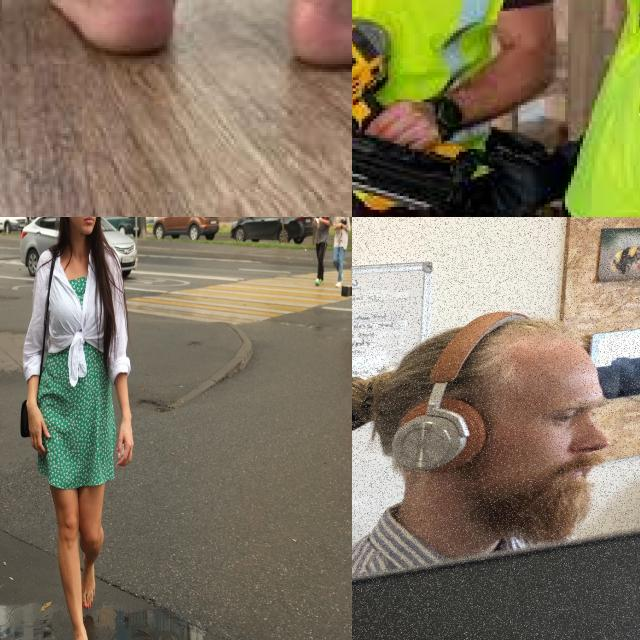Barefoots: (25, 0, 204, 54), (82, 550, 95, 610), (72, 630, 92, 640)
Ear-protection: (366, 304, 640, 563)
hand_glove: (352, 0, 534, 189)
person: (352, 0, 556, 217)
